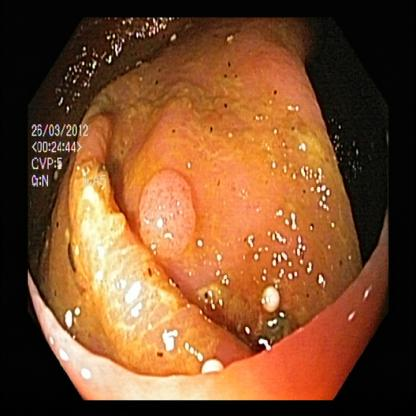Labels: (27, 103, 108, 200)
Polyps: (140, 167, 200, 271)
